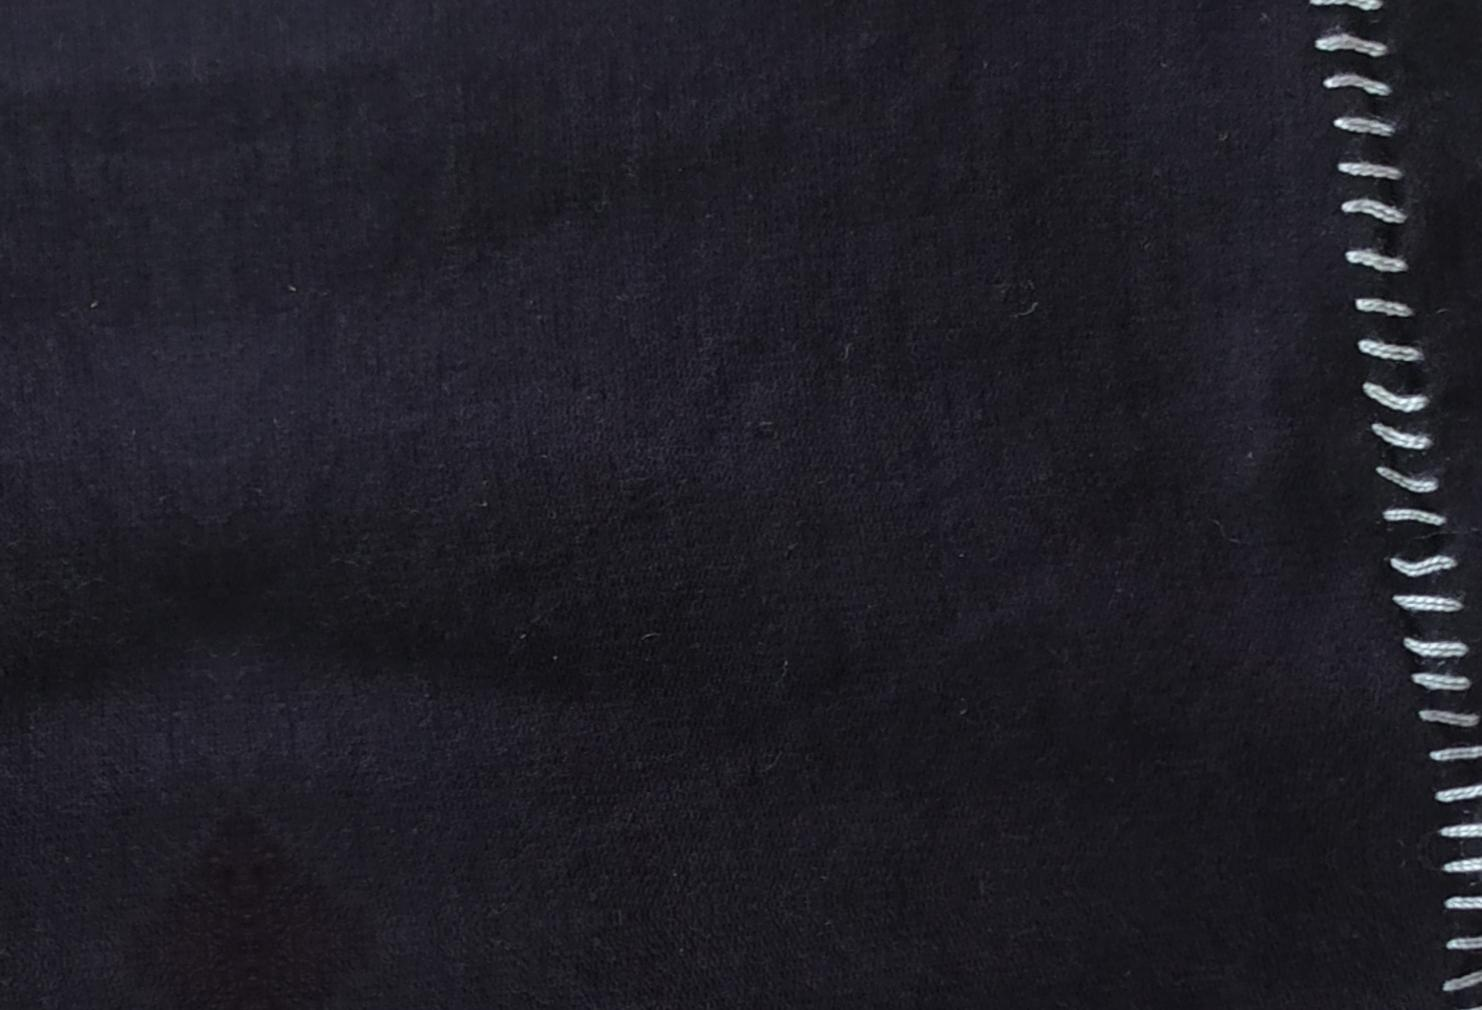slub: (1311, 0, 1482, 1007)
